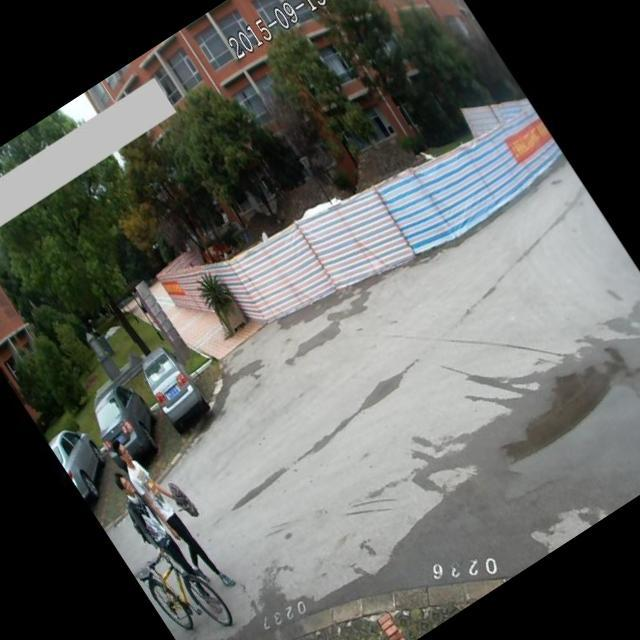person: (105, 422, 223, 579), (100, 463, 186, 578)
